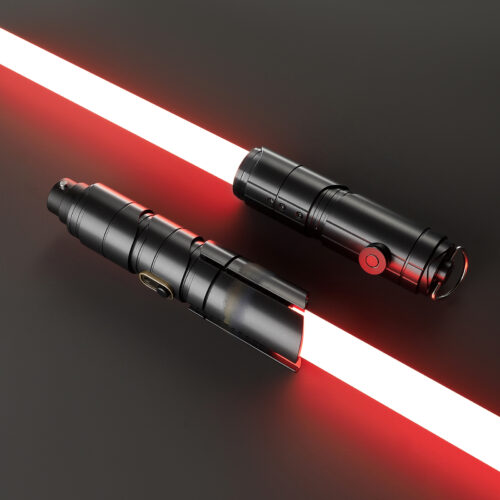lightsaber: (43, 168, 499, 480), (60, 35, 485, 308)
